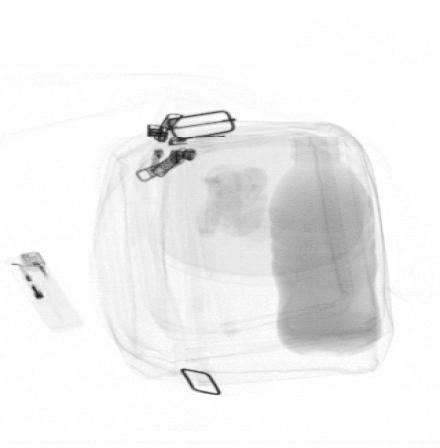Lighter: (4, 251, 85, 333)
